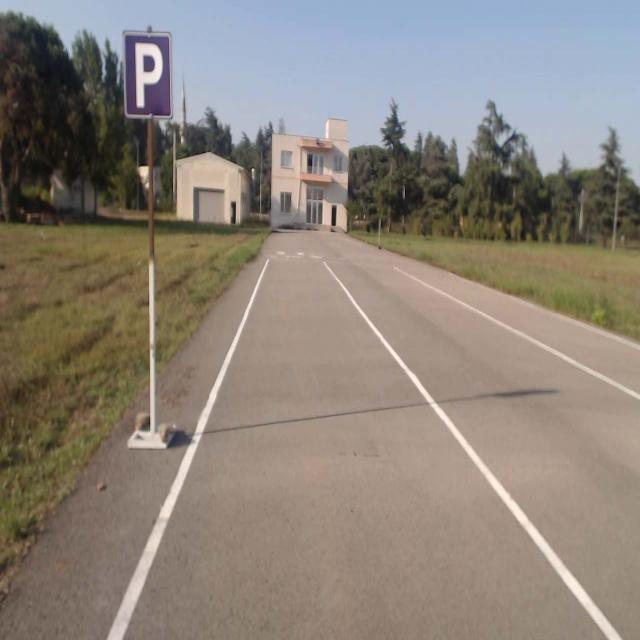park: (122, 30, 172, 119)
